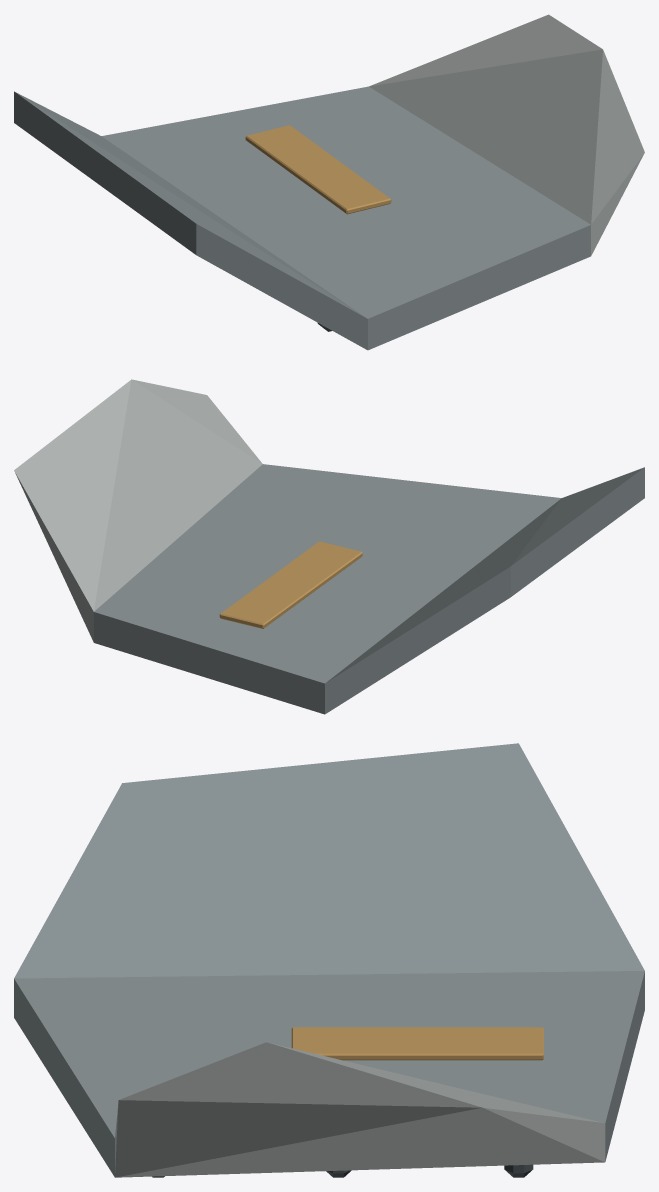
File: bent_armor.glb
The picture shows the model from 3 angles, top to bottom: view 1: azimuth 30°, elevation 25°; view 2: azimuth 150°, elevation 25°; view 3: azimuth 270°, elevation 25°; orthographic projection. The views are drawn at different scales.
Visible parts, largest first — view 1: bent_armor; view 2: bent_armor; view 3: bent_armor.
Boxes of the visible parts, left/top/right/bottom form: bent_armor: left=14, top=14, right=644, bottom=350; bent_armor: left=14, top=379, right=644, bottom=714; bent_armor: left=14, top=743, right=644, bottom=1177.
Size of the model in its own units: 2.07 by 0.66 by 1.75.
